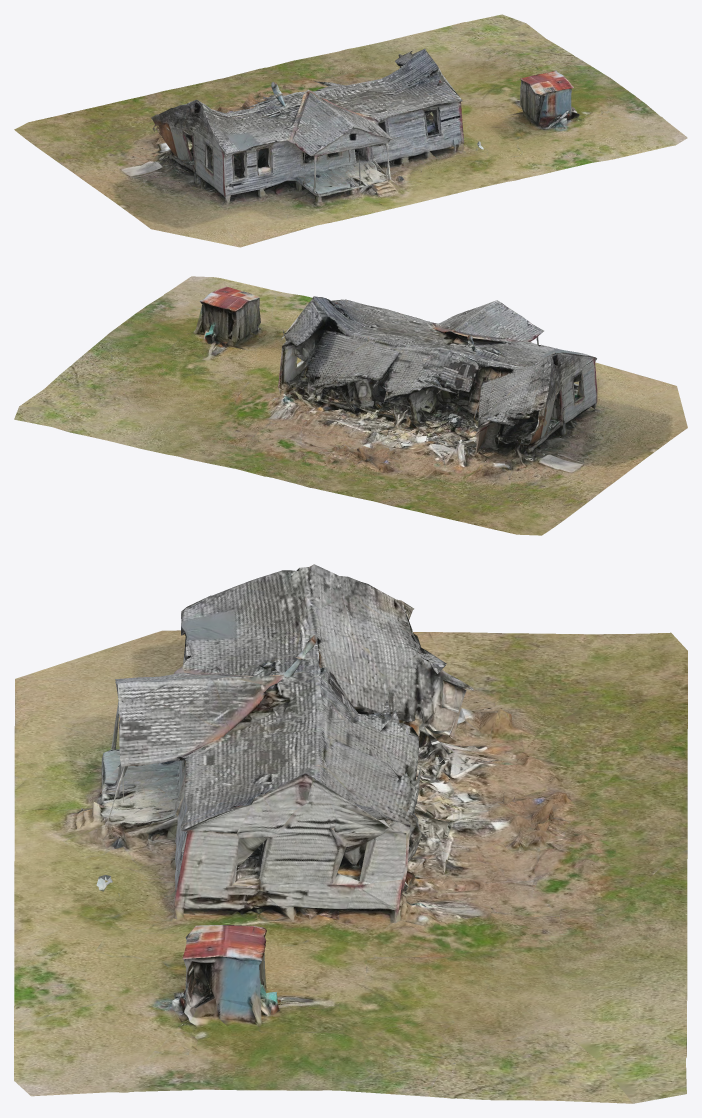
File: house_f.glb
The picture shows the model from 3 angles, top to bottom: view 1: azimuth 30°, elevation 25°; view 2: azimuth 150°, elevation 25°; view 3: azimuth 270°, elevation 25°; orthographic projection. The views are drawn at different scales.
Parts seen in each view (by area): view 1: prefab; view 2: prefab; view 3: prefab.
Part boxes in pixels (x1=…): prefab: x1=14, y1=14, x2=687, y2=247; prefab: x1=14, y1=276, x2=687, y2=535; prefab: x1=14, y1=564, x2=687, y2=1103.
Bounding box in the file's own units: 39.06 × 6.55 × 24.43.
Materials: 1 (1 with a texture image).
